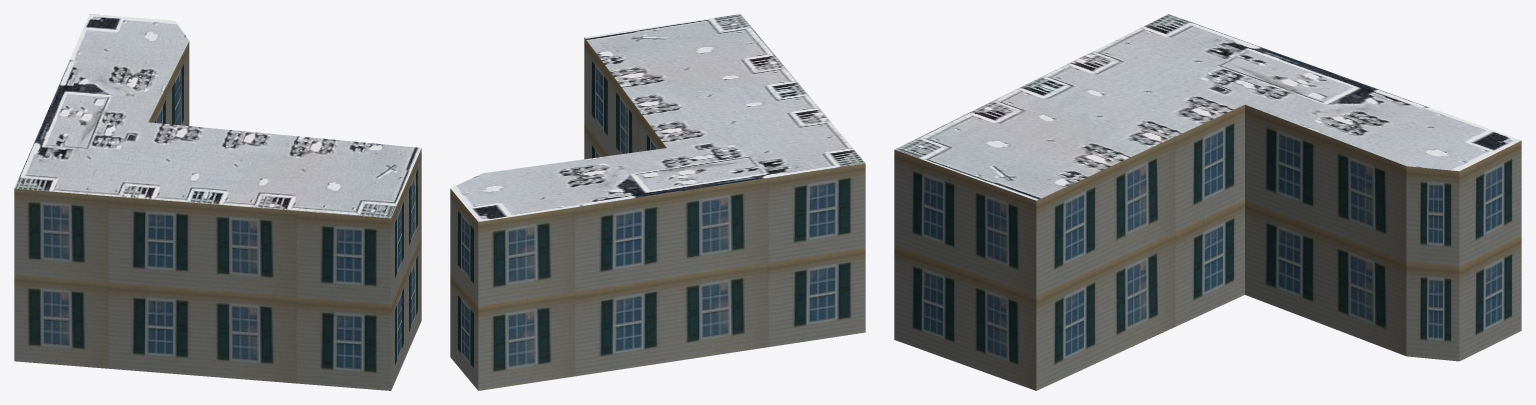
File: ResTex__1625.fbx
The picture shows the model from 3 angles, left to right: view 1: azimuth 30°, elevation 25°; view 2: azimuth 150°, elevation 25°; view 3: azimuth 270°, elevation 25°; orthographic projection. The views are drawn at different scales.
Visible parts, largest first — view 1: CityEngineMaterial_7_m, CityEngineMaterial_4_m; view 2: CityEngineMaterial_7_m, CityEngineMaterial_4_m; view 3: CityEngineMaterial_7_m, CityEngineMaterial_4_m.
Boxes of the visible parts, <box> form: CityEngineMaterial_7_m: <box>14,41,421,390</box>; CityEngineMaterial_4_m: <box>14,14,421,218</box>; CityEngineMaterial_7_m: <box>450,38,865,390</box>; CityEngineMaterial_4_m: <box>450,14,865,221</box>; CityEngineMaterial_7_m: <box>894,105,1521,390</box>; CityEngineMaterial_4_m: <box>894,14,1521,200</box>.
Size of the model in its own units: 12.64 by 6 by 17.94.
2 materials, 2 textured.
